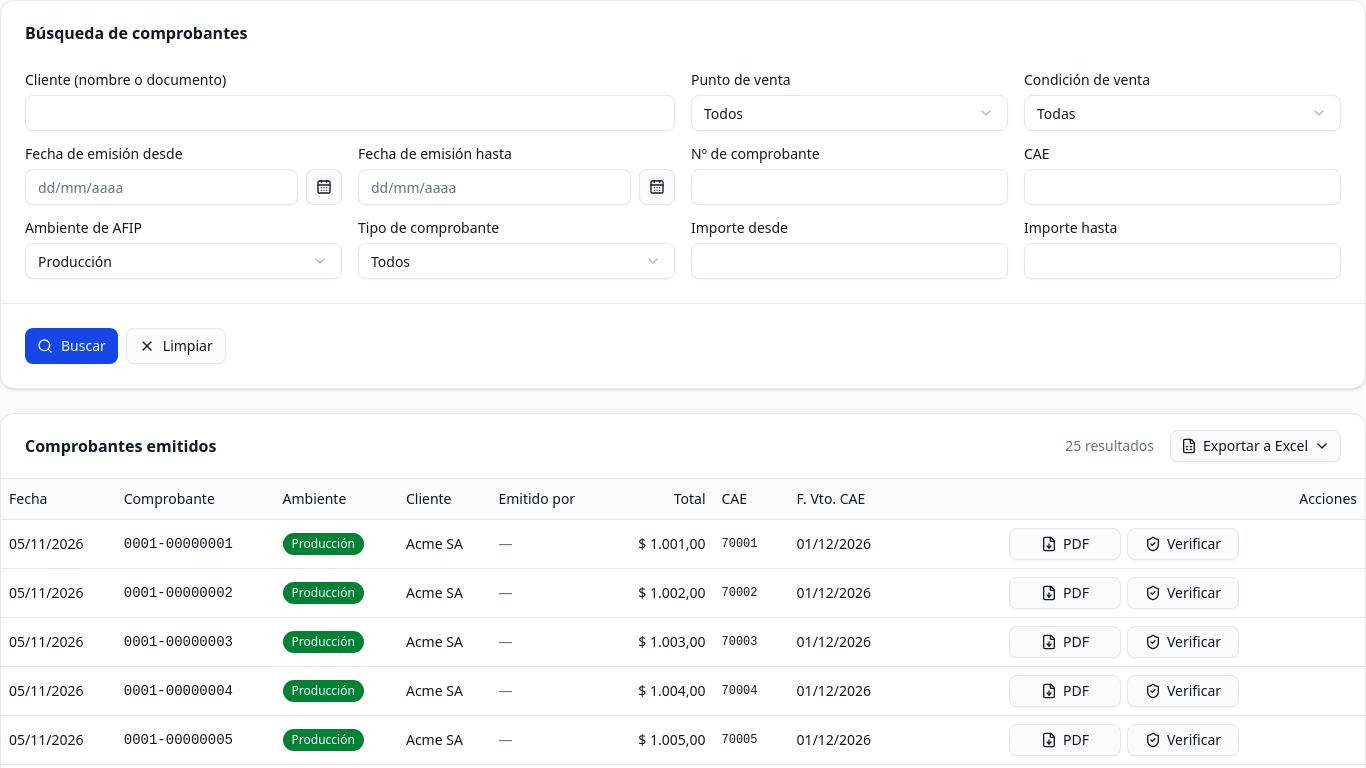
Test: Comprobantes emitidos: exportar › ofrece Pantalla (lo que se ve) y Todo (las 3 páginas de la búsqueda), con la cantidad de cada uno
The width and height of the screenshot is (1366, 768).
expect the text "Comprobantes emitidos" is shown: met, box [25,434,216,458]
Click the button "Exportar a Excel".
click(1256, 446)  # box [1170,430,1341,462]
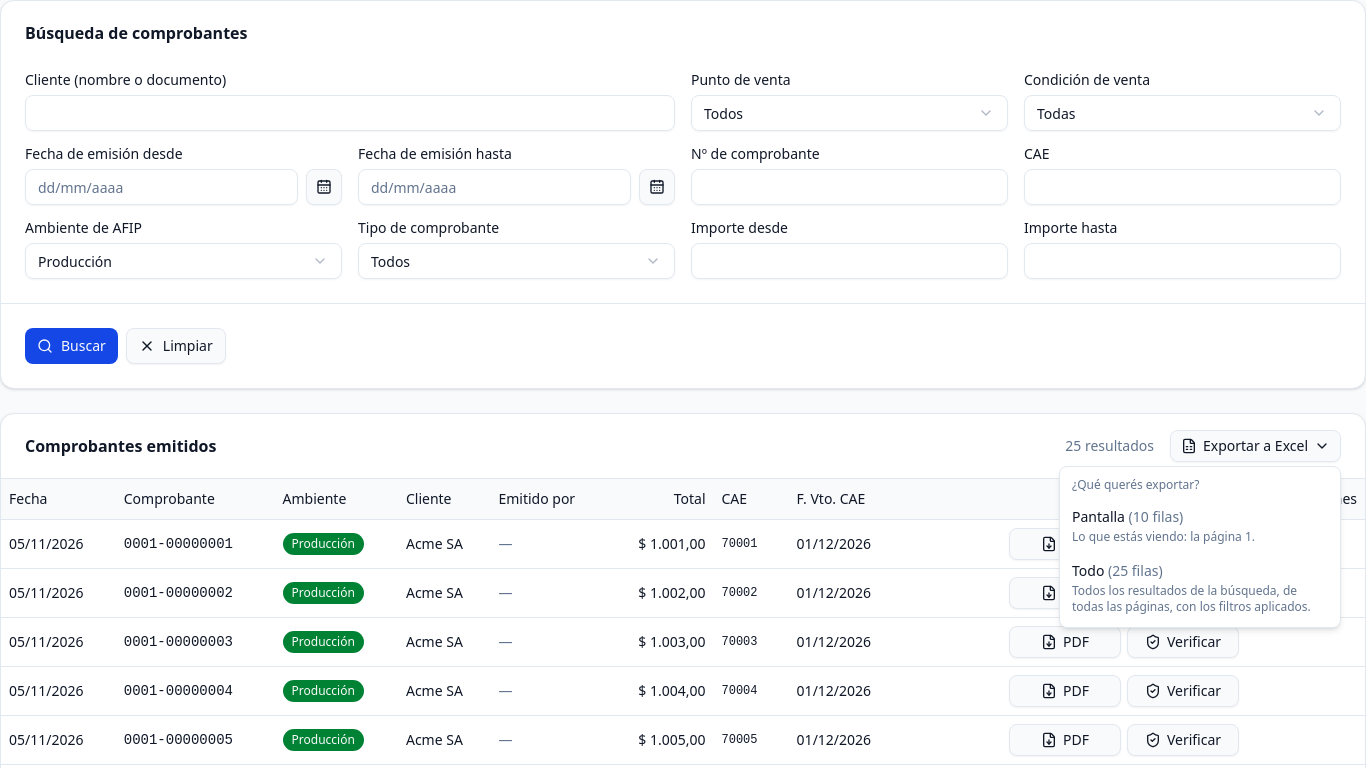
expect the text "Pantalla" is shown: met, box [1072,507,1125,526]
expect the text "(10 filas)" is shown: met, box [1129,507,1183,526]
expect the text "Todo" is shown: met, box [1072,561,1104,580]
